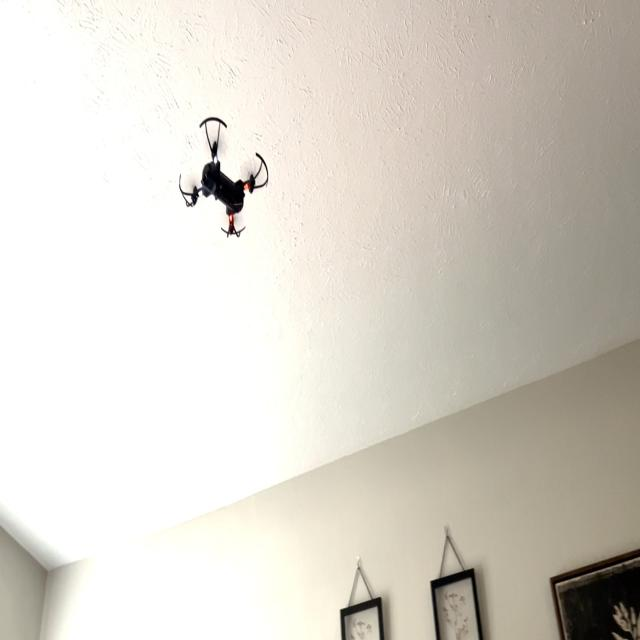drone: (175, 95, 278, 255)
